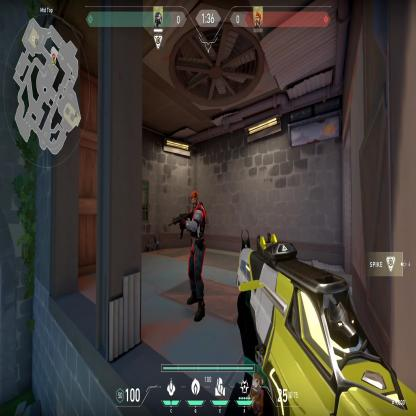enemy: (180, 190, 211, 324)
